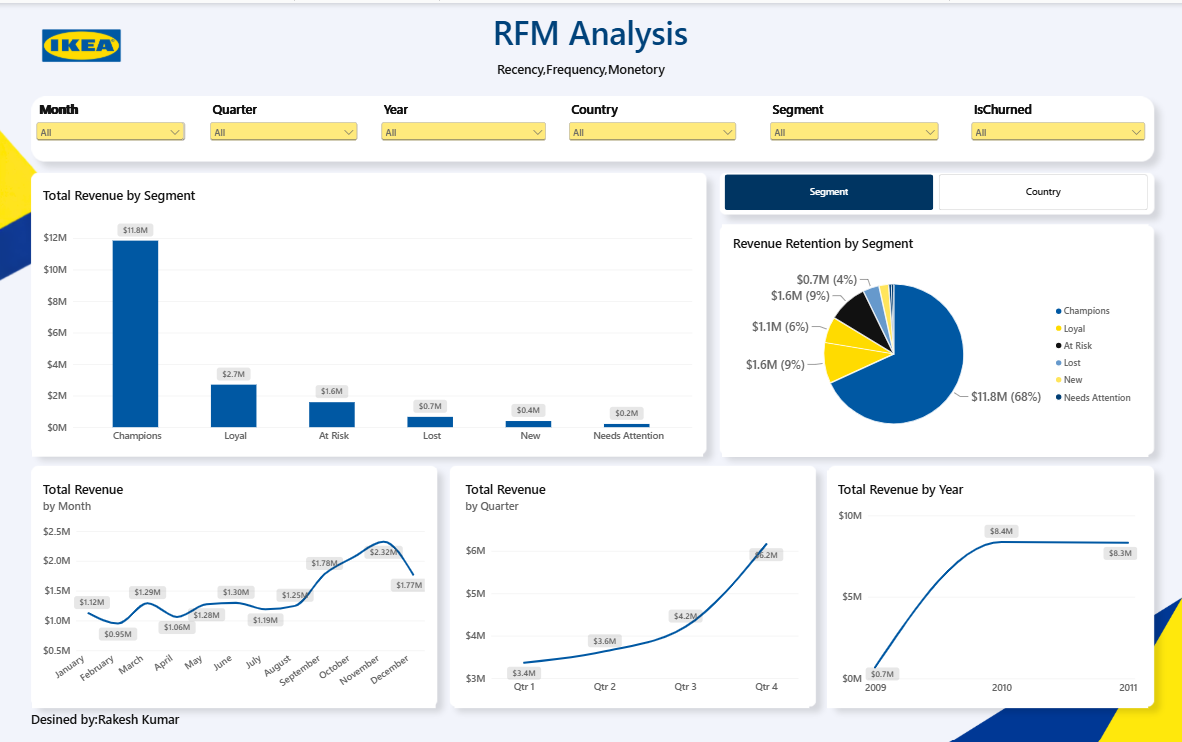

This screenshot's page, from the dashboard's own definition file:
{"tool":"powerbi","page":{"name":"RFM Analysis","canvas":[1750,1100],"ordinal":2},"visuals":[{"type":"slicer","fields":{"Values":["Sheet1.InvoiceDate.Variation.Date Hierarchy.Month"]},"box":[55.3,143.8,226.7,94],"z":0},{"type":"columnChart","fields":{"Category":["Sheet1.Segment"],"Y":["Sheet1.Total Revenue"]},"box":[52.4,255.8,989.8,412.9],"z":0,"group":"g3"},{"type":"lineChart","fields":{"Category":["Sheet1.InvoiceMonth.Variation.Date Hierarchy.Month"],"Y":["Sheet1.Churned %"]},"box":[55.3,685.7,593.1,331.8],"z":0,"group":"g1"},{"type":"lineChart","fields":{"Category":["Sheet1.InvoiceMonth.Variation.Date Hierarchy.Month"],"Y":["Sheet1.Churned %"]},"box":[55.3,694.9,593.1,331.8],"z":0,"group":"g2"},{"type":"slicer","fields":{"Values":["Sheet1.InvoiceDate.Variation.Date Hierarchy.Quarter"]},"box":[309.7,143.8,226.7,94],"z":1000},{"type":"pieChart","title":"Revenue Retention by Segment","fields":{"Category":["Sheet1.Segment"],"Series":["Sheet1.IsChurned"],"Y":["Sheet1.Total Revenue"]},"box":[1068.5,326.3,628.7,342.9],"z":1000,"group":"g3"},{"type":"lineChart","fields":{"Category":["Sheet1.InvoiceMonth.Variation.Date Hierarchy.Quarter"],"Y":["Sheet1.Churned %"]},"box":[675.7,685.7,521.5,331.8],"z":1000,"group":"g1"},{"type":"lineChart","fields":{"Category":["Sheet1.InvoiceMonth.Variation.Date Hierarchy.Quarter"],"Y":["Sheet1.Churned %"]},"box":[675.7,694.9,521.5,331.8],"z":1000,"group":"g2"},{"type":"slicer","fields":{"Values":["Sheet1.InvoiceDate.Variation.Date Hierarchy.Year"]},"box":[562.2,143.8,252.5,94],"z":2000},{"type":"lineChart","fields":{"Category":["Sheet1.InvoiceMonth.Variation.Date Hierarchy.Year"],"Y":["Sheet1.Churned %"]},"box":[1227.5,685.7,471.9,331.8],"z":2000,"group":"g1"},{"type":"lineChart","fields":{"Category":["Sheet1.InvoiceMonth.Variation.Date Hierarchy.Month"],"Y":["Sheet1.Total Revenue"]},"box":[51.9,688.4,595.3,350.2],"z":2000,"group":"g3"},{"type":"lineChart","fields":{"Category":["Sheet1.InvoiceMonth.Variation.Date Hierarchy.Year"],"Y":["Sheet1.Churned %"]},"box":[1227.5,694.9,471.9,331.8],"z":2000,"group":"g2"},{"type":"slicer","fields":{"Values":["Sheet1.Country"]},"box":[838.6,143.8,256.2,94],"z":3000},{"type":"lineChart","fields":{"Category":["Sheet1.InvoiceMonth.Variation.Date Hierarchy.Quarter"],"Y":["Sheet1.Total Revenue"]},"box":[674.9,688.4,523.5,350.2],"z":3000,"group":"g3"},{"type":"slicer","fields":{"Values":["Sheet1.Segment"]},"box":[1135.4,143.8,258,94],"z":4000},{"type":"lineChart","fields":{"Category":["Sheet1.InvoiceMonth.Variation.Date Hierarchy.Year"],"Y":["Sheet1.Total Revenue"]},"box":[1224.2,688.4,473.7,350.2],"z":4000,"group":"g3"},{"type":"slicer","fields":{"Values":["Sheet1.IsChurned"]},"box":[1432.1,143.8,265.4,94],"z":5000},{"type":"slicer","fields":{"Values":["Sheet1.InvoiceDate.Variation.Date Hierarchy.Month"]},"box":[54.4,143.5,227.7,106.4],"z":6000},{"type":"slicer","fields":{"Values":["Sheet1.InvoiceDate.Variation.Date Hierarchy.Month"]},"box":[53.2,143.9,226.7,94],"z":7000},{"type":"slicer","fields":{"Values":["Sheet1.InvoiceDate.Variation.Date Hierarchy.Quarter"]},"box":[309.4,143.9,226.7,94],"z":8000},{"type":"slicer","fields":{"Values":["Sheet1.InvoiceDate.Variation.Date Hierarchy.Year"]},"box":[561.7,143.9,252.5,94],"z":9000},{"type":"slicer","fields":{"Values":["Sheet1.Country"]},"box":[839.5,143.9,256.2,94],"z":10000},{"type":"slicer","fields":{"Values":["Sheet1.Segment"]},"box":[1135.1,143.9,258,94],"z":11000},{"type":"slicer","fields":{"Values":["Sheet1.IsChurned"]},"box":[1432.7,143.9,265.4,94],"z":12000},{"type":"group","id":"g1","title":"Customer","box":[55.3,685.7,1644.1,331.8],"z":13000},{"type":"bookmarkNavigator","box":[1072.7,252.5,624.8,53.5],"z":15000},{"type":"textbox","title":"Desined by:Rakesh Kumar","box":[49.3,1042.5,545.9,39.4],"z":16000},{"type":"image","box":[49.3,0,149.8,126.1],"z":17000},{"type":"textbox","box":[586.3,9.9,577.4,74.9],"z":20000},{"type":"textbox","title":"Recency,Frequency,Monetory","box":[737,84.7,427.6,59.1],"z":21000},{"type":"slicer","fields":{"Values":["Sheet1.InvoiceDate.Variation.Date Hierarchy.Month"]},"box":[53.5,143.8,226.7,94],"z":22000},{"type":"slicer","fields":{"Values":["Sheet1.InvoiceDate.Variation.Date Hierarchy.Quarter"]},"box":[309.7,143.8,226.7,94],"z":23000},{"type":"slicer","fields":{"Values":["Sheet1.InvoiceDate.Variation.Date Hierarchy.Year"]},"box":[562.2,143.8,252.5,94],"z":24000},{"type":"slicer","fields":{"Values":["Sheet1.Country"]},"box":[838.6,143.8,256.2,94],"z":25000},{"type":"slicer","fields":{"Values":["Sheet1.Segment"]},"box":[1135.4,143.8,258,94],"z":26000},{"type":"slicer","fields":{"Values":["Sheet1.IsChurned"]},"box":[1432.1,143.8,265.4,94],"z":27000},{"type":"group","id":"g2","title":"Customer","box":[55.3,694.9,1644.1,331.8],"z":28000},{"type":"group","id":"g3","title":"Revenue","box":[51.9,255.8,1646,782.8],"z":29000},{"type":"image","box":[49.8,0,149.8,126.1],"z":30000}]}

Visuals, with their boxes in screenshot pixels (x1, y1, x2, y2), scaled from the page's 1750x1100 canvas onto the 1182x742 screenshot:
slicer - Sheet1.InvoiceDate.Variation.Date Hierarchy.Month: <bbox>37, 97, 190, 160</bbox>
columnChart - Sheet1.Segment x Sheet1.Total Revenue: <bbox>35, 173, 704, 451</bbox>
lineChart - Sheet1.InvoiceMonth.Variation.Date Hierarchy.Month x Sheet1.Churned %: <bbox>37, 463, 438, 686</bbox>
lineChart - Sheet1.InvoiceMonth.Variation.Date Hierarchy.Month x Sheet1.Churned %: <bbox>37, 469, 438, 693</bbox>
slicer - Sheet1.InvoiceDate.Variation.Date Hierarchy.Quarter: <bbox>209, 97, 362, 160</bbox>
"Revenue Retention by Segment" pieChart: <bbox>722, 220, 1146, 451</bbox>
lineChart - Sheet1.InvoiceMonth.Variation.Date Hierarchy.Quarter x Sheet1.Churned %: <bbox>456, 463, 809, 686</bbox>
lineChart - Sheet1.InvoiceMonth.Variation.Date Hierarchy.Quarter x Sheet1.Churned %: <bbox>456, 469, 809, 693</bbox>
slicer - Sheet1.InvoiceDate.Variation.Date Hierarchy.Year: <bbox>380, 97, 550, 160</bbox>
lineChart - Sheet1.InvoiceMonth.Variation.Date Hierarchy.Year x Sheet1.Churned %: <bbox>829, 463, 1148, 686</bbox>
lineChart - Sheet1.InvoiceMonth.Variation.Date Hierarchy.Month x Sheet1.Total Revenue: <bbox>35, 464, 437, 701</bbox>
lineChart - Sheet1.InvoiceMonth.Variation.Date Hierarchy.Year x Sheet1.Churned %: <bbox>829, 469, 1148, 693</bbox>
slicer - Sheet1.Country: <bbox>566, 97, 739, 160</bbox>
lineChart - Sheet1.InvoiceMonth.Variation.Date Hierarchy.Quarter x Sheet1.Total Revenue: <bbox>456, 464, 809, 701</bbox>
slicer - Sheet1.Segment: <bbox>767, 97, 941, 160</bbox>
lineChart - Sheet1.InvoiceMonth.Variation.Date Hierarchy.Year x Sheet1.Total Revenue: <bbox>827, 464, 1147, 701</bbox>
slicer - Sheet1.IsChurned: <bbox>967, 97, 1147, 160</bbox>
slicer - Sheet1.InvoiceDate.Variation.Date Hierarchy.Month: <bbox>37, 97, 191, 169</bbox>
slicer - Sheet1.InvoiceDate.Variation.Date Hierarchy.Month: <bbox>36, 97, 189, 160</bbox>
slicer - Sheet1.InvoiceDate.Variation.Date Hierarchy.Quarter: <bbox>209, 97, 362, 160</bbox>
slicer - Sheet1.InvoiceDate.Variation.Date Hierarchy.Year: <bbox>379, 97, 550, 160</bbox>
slicer - Sheet1.Country: <bbox>567, 97, 740, 160</bbox>
slicer - Sheet1.Segment: <bbox>767, 97, 941, 160</bbox>
slicer - Sheet1.IsChurned: <bbox>968, 97, 1147, 160</bbox>
"Customer" group: <bbox>37, 463, 1148, 686</bbox>
bookmarkNavigator: <bbox>725, 170, 1147, 206</bbox>
"Desined by:Rakesh Kumar" textbox: <bbox>33, 703, 402, 730</bbox>
image: <bbox>33, 0, 134, 85</bbox>
textbox: <bbox>396, 7, 786, 57</bbox>
"Recency,Frequency,Monetory" textbox: <bbox>498, 57, 787, 97</bbox>
slicer - Sheet1.InvoiceDate.Variation.Date Hierarchy.Month: <bbox>36, 97, 189, 160</bbox>
slicer - Sheet1.InvoiceDate.Variation.Date Hierarchy.Quarter: <bbox>209, 97, 362, 160</bbox>
slicer - Sheet1.InvoiceDate.Variation.Date Hierarchy.Year: <bbox>380, 97, 550, 160</bbox>
slicer - Sheet1.Country: <bbox>566, 97, 739, 160</bbox>
slicer - Sheet1.Segment: <bbox>767, 97, 941, 160</bbox>
slicer - Sheet1.IsChurned: <bbox>967, 97, 1147, 160</bbox>
"Customer" group: <bbox>37, 469, 1148, 693</bbox>
"Revenue" group: <bbox>35, 173, 1147, 701</bbox>
image: <bbox>34, 0, 135, 85</bbox>
